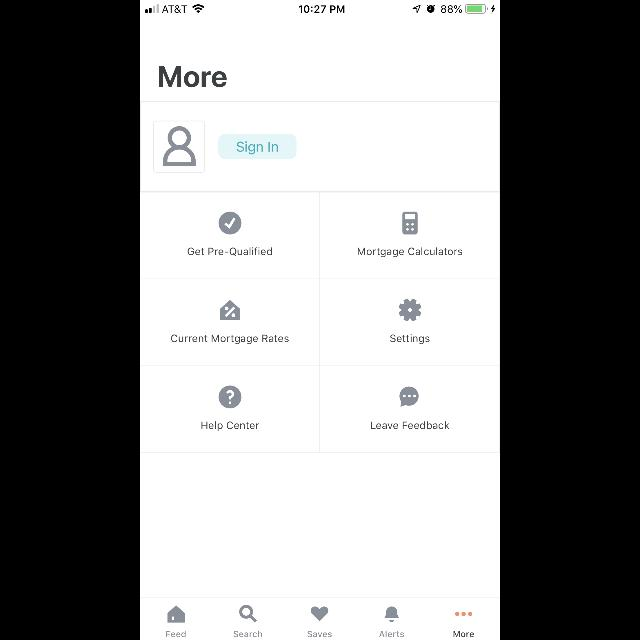icon: (153, 121, 205, 173), (398, 298, 422, 322), (218, 386, 242, 408), (218, 212, 242, 234), (399, 387, 419, 407), (220, 300, 240, 320), (402, 212, 418, 234), (239, 605, 257, 623), (168, 606, 185, 622), (312, 606, 328, 622), (384, 606, 400, 622), (456, 612, 472, 616)
text: (159, 66, 227, 88), (171, 334, 289, 344), (358, 247, 462, 257), (188, 248, 272, 256), (370, 421, 450, 429), (202, 421, 260, 431), (390, 334, 430, 344), (234, 630, 262, 638), (308, 630, 332, 638), (380, 631, 404, 637), (454, 631, 474, 637), (166, 631, 186, 637)
textbutton: (219, 134, 297, 160)
uppertaskbar: (140, 0, 500, 14)
